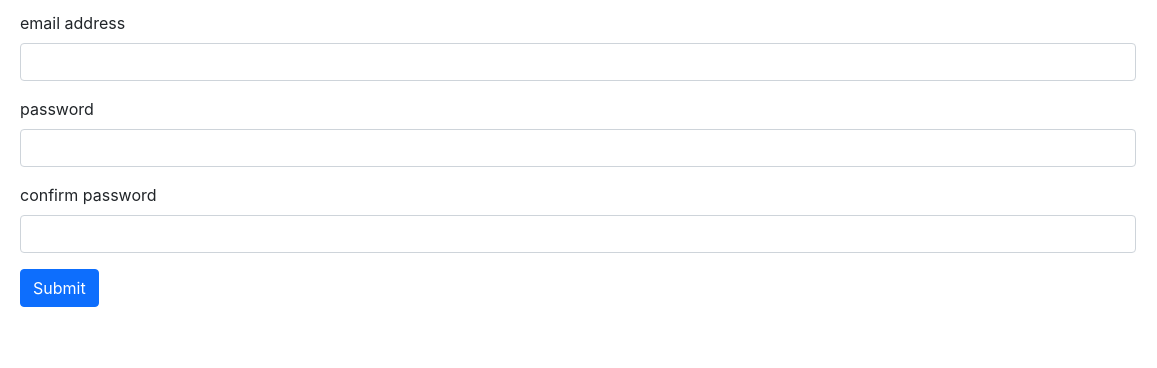
Signup-form › Should show error message › should show error if password and confirm password are not equal
The width and height of the screenshot is (1157, 368).
Expected: the text "passwords are not the same,try again" is not shown
In the field labelled "email address": (578, 62) [20,43,1136,81], type "masoud@gmail.com"
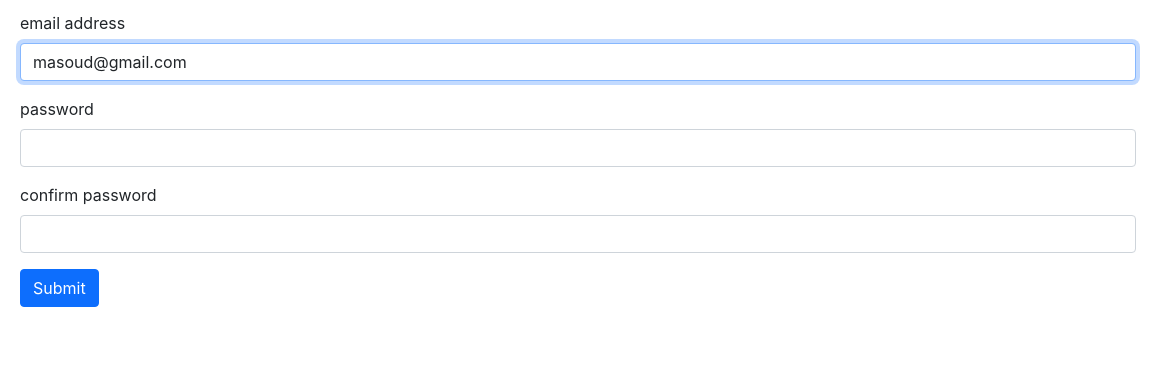
In the password field labelled "password": (578, 148) [20,129,1136,167], type "password!"
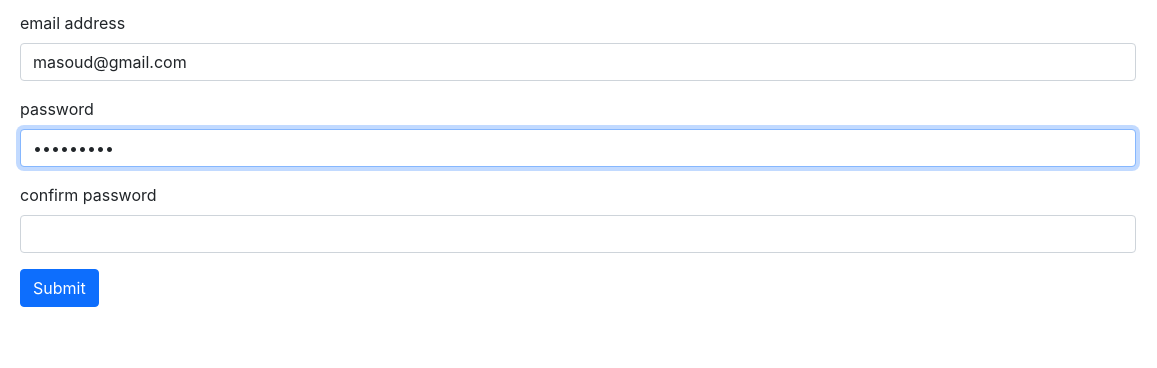
In the password field labelled "confirm password": (578, 234) [20,215,1136,253], type "123"
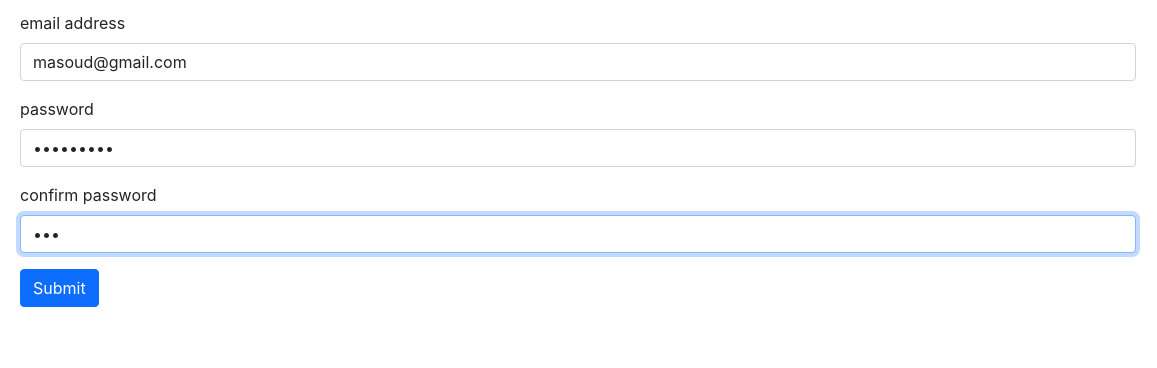
Click the button "Submit": click(59, 288) [20,269,99,307]
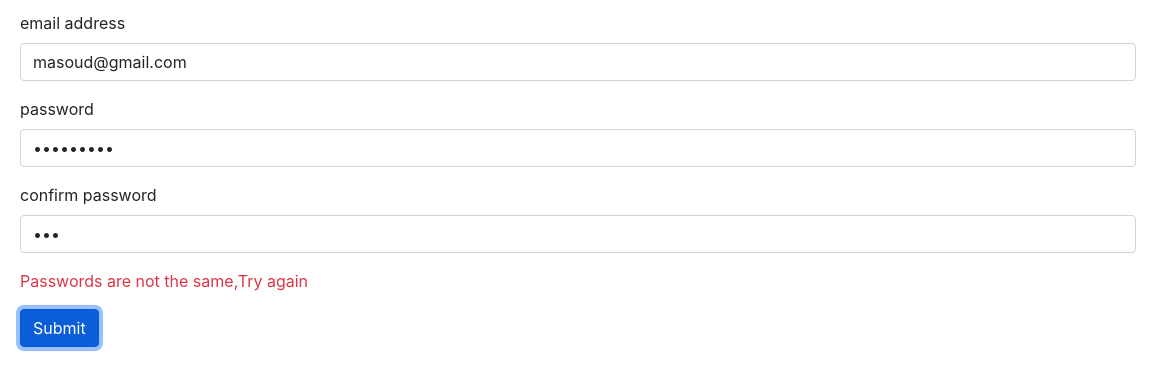
Now the text "Passwords are not the same,Try again" is shown, box [20,271,308,291]
